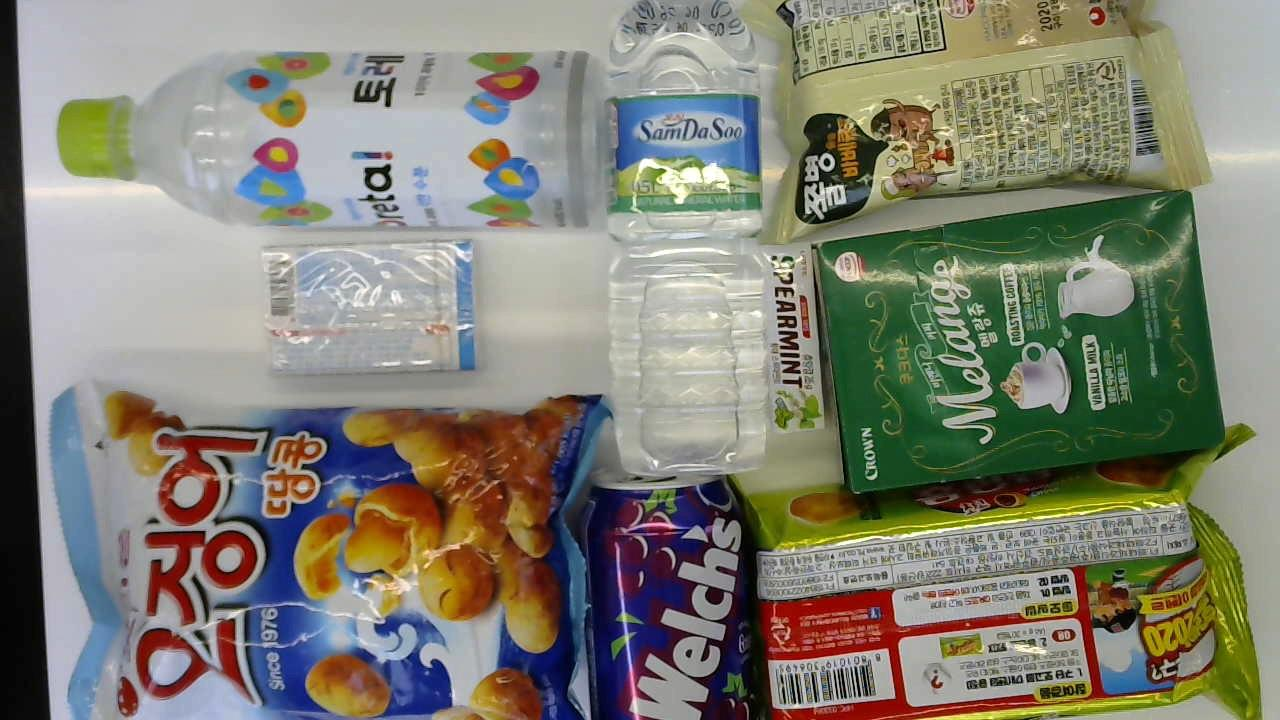ID_gum: (261, 240, 477, 372)
couque_coffee: (813, 186, 1228, 494)
homerunball: (744, 424, 1280, 720)
jjolbyung_ori: (755, 0, 1213, 244)
samdasu: (610, 0, 768, 481)
spearmint: (763, 234, 822, 430)
squid_peanut: (41, 365, 656, 720)
toreta: (55, 52, 612, 228)
welchs: (570, 461, 785, 720)
